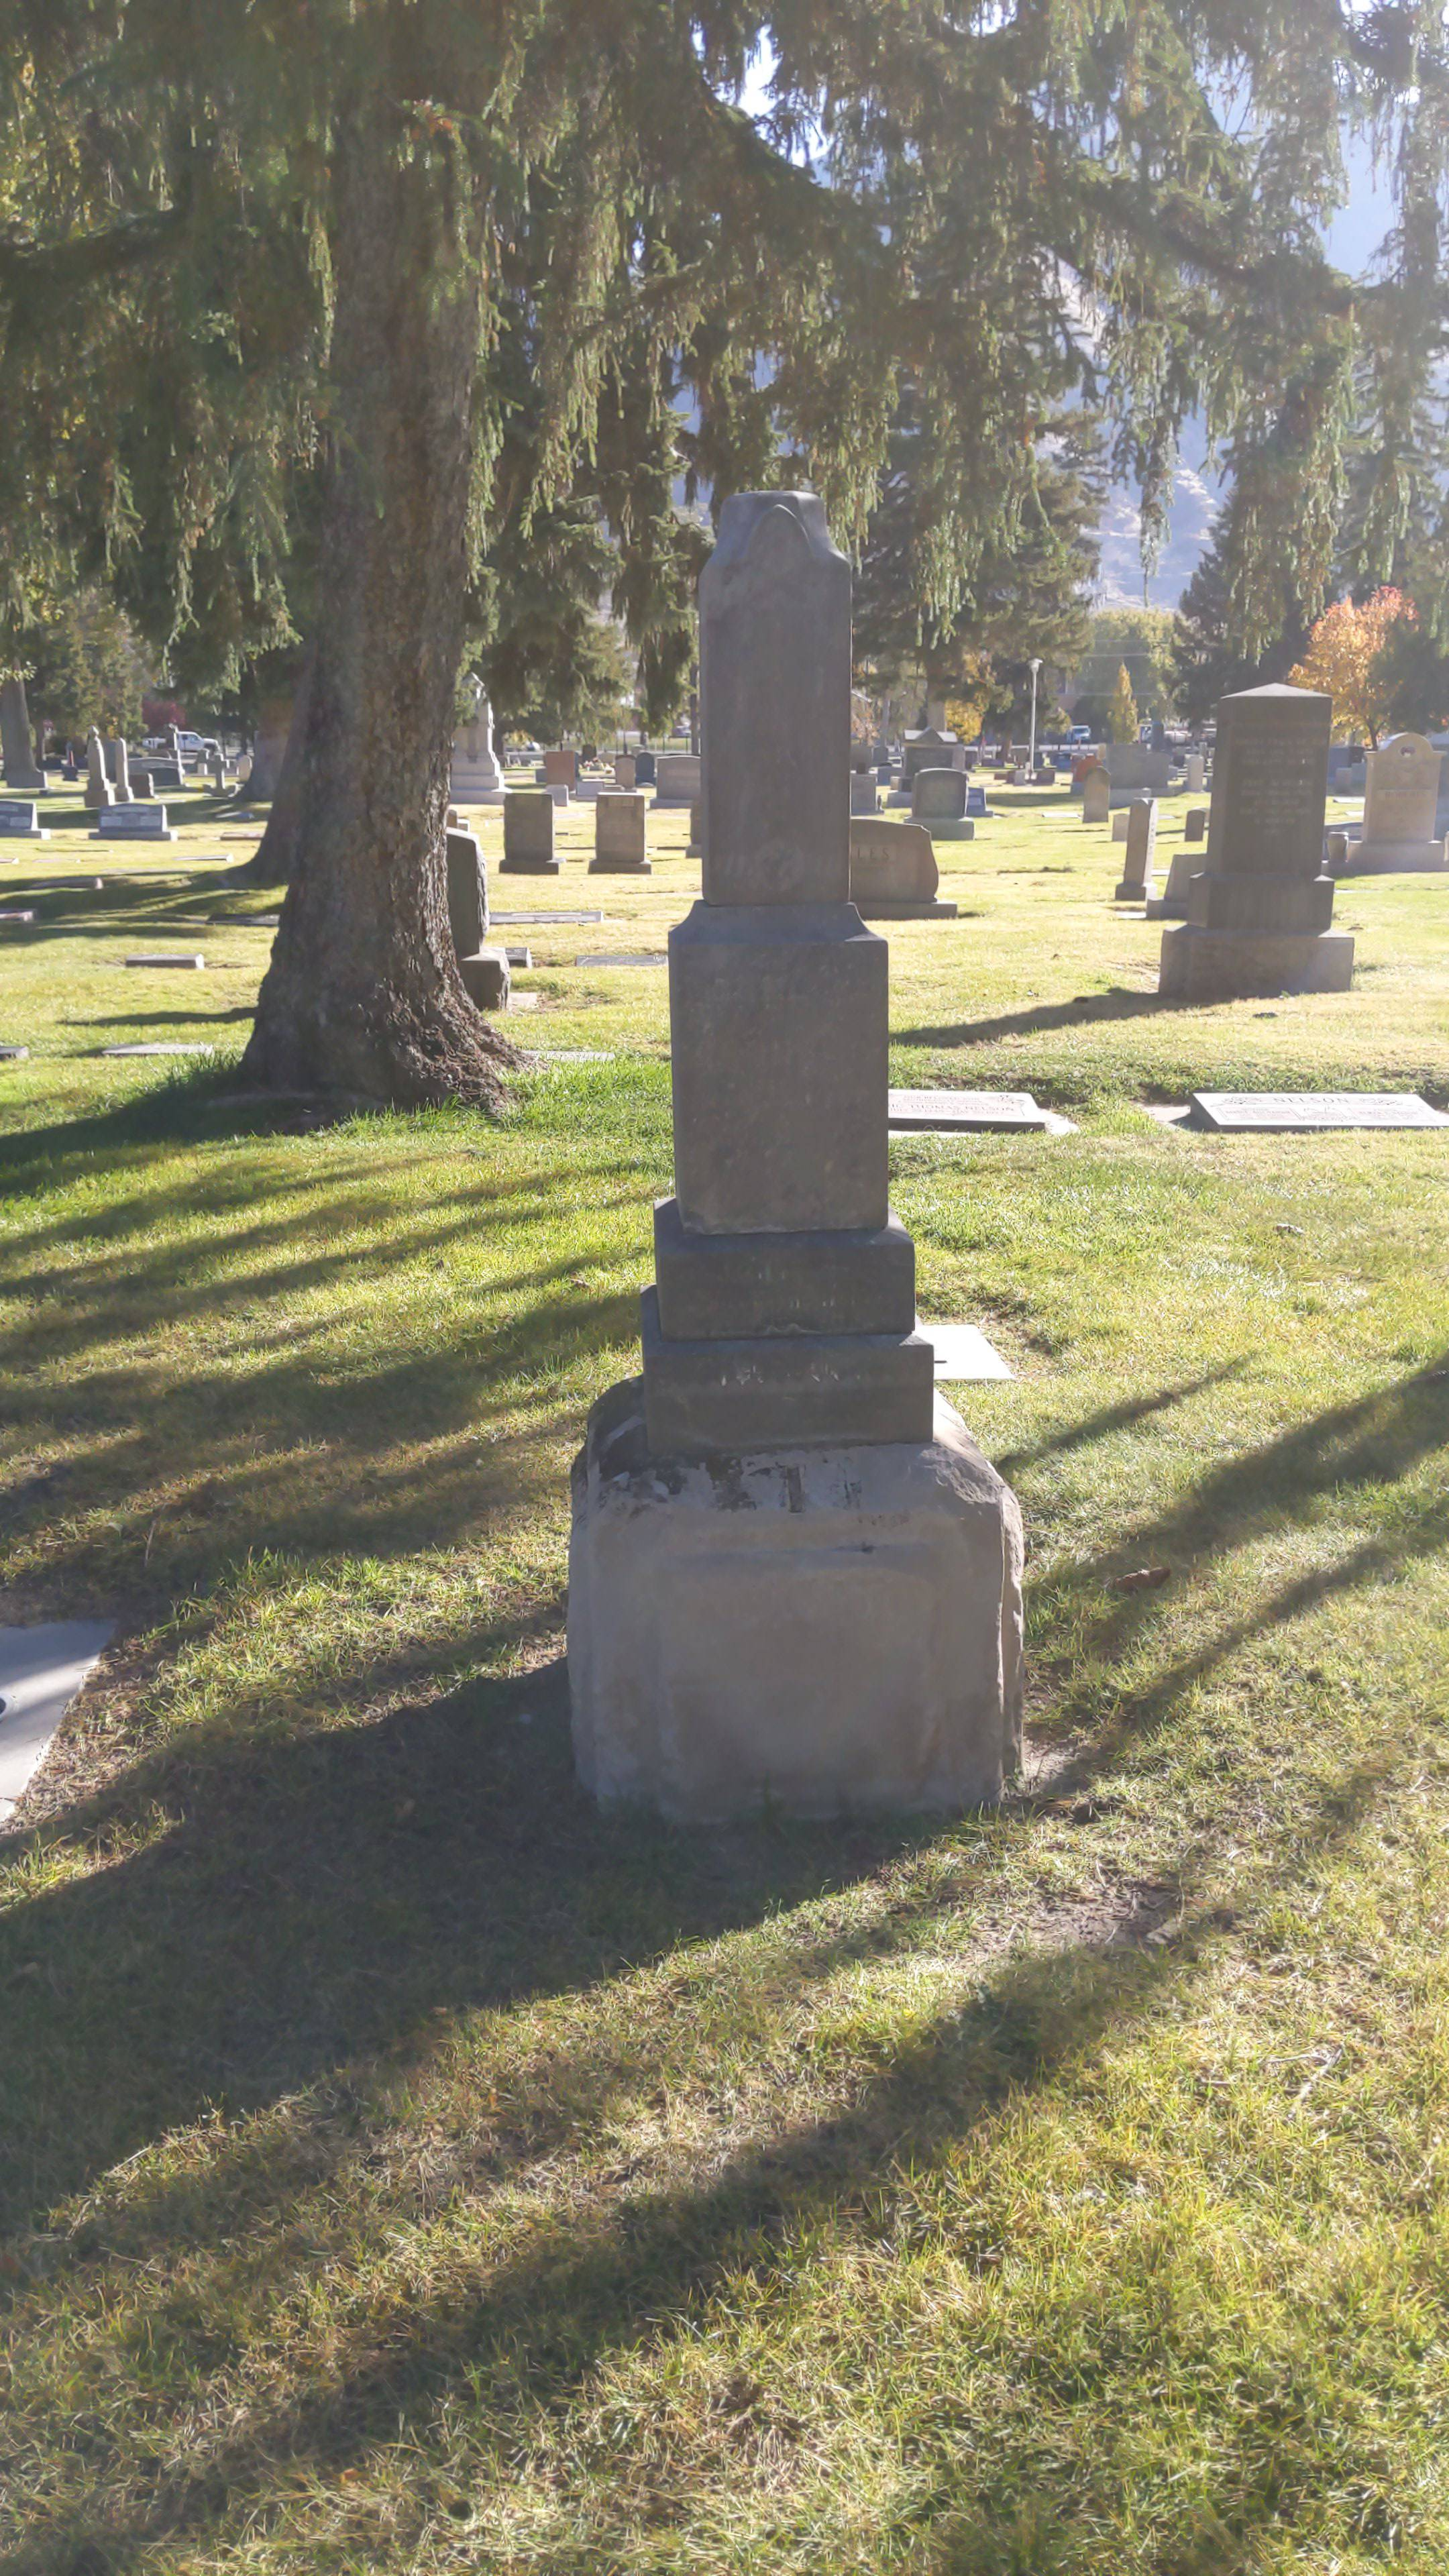obelisk: (646, 487, 924, 1454)
